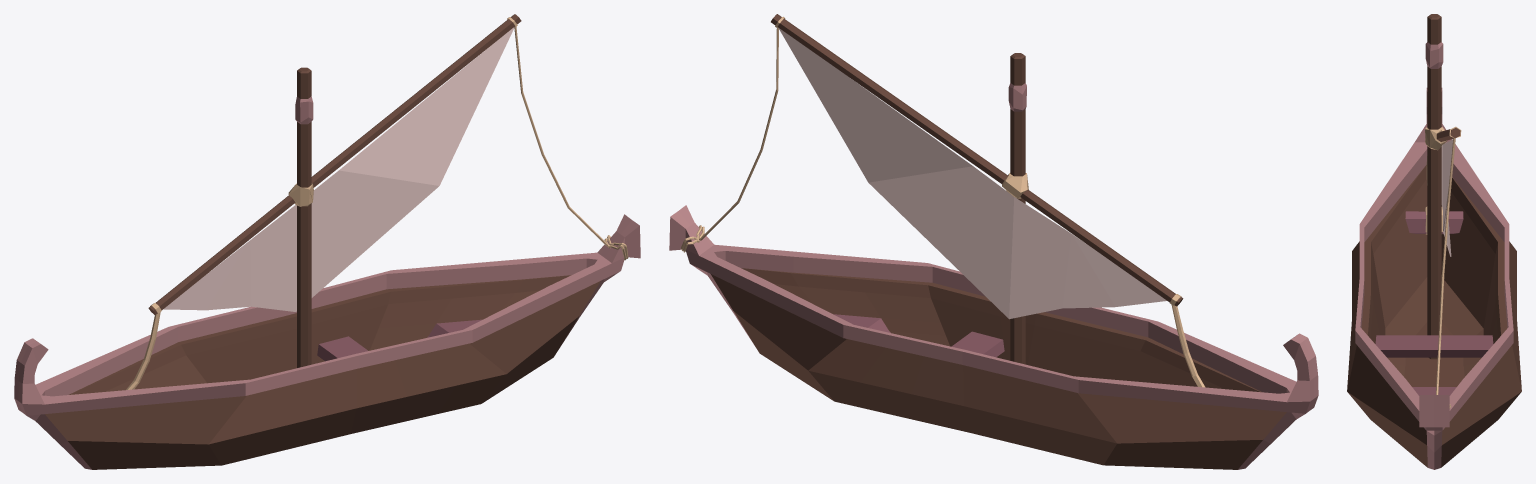
File: Small_Boat.fbx
The picture shows the model from 3 angles, left to right: view 1: azimuth 30°, elevation 25°; view 2: azimuth 150°, elevation 25°; view 3: azimuth 270°, elevation 25°; orthographic projection. The views are drawn at different scales.
Parts seen in each view (by area): view 1: Small Boat; view 2: Small Boat; view 3: Small Boat.
Part boxes in pixels (box(x1,y1,x2,y2)): Small Boat: box(14, 14, 640, 469); Small Boat: box(669, 14, 1318, 469); Small Boat: box(1347, 14, 1521, 469).
Size of the model in its own units: 392 by 223 by 99.53.
